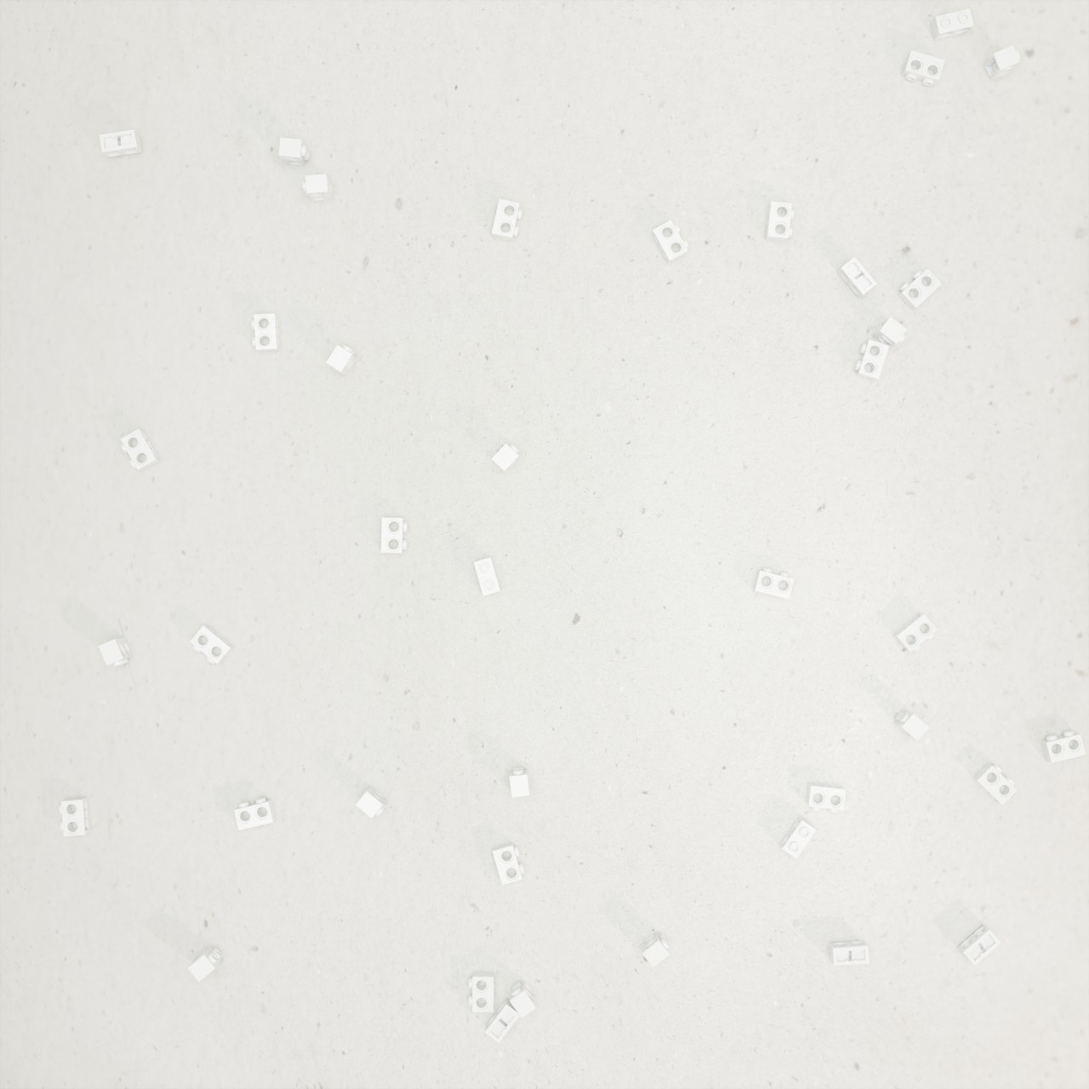lego: (898, 268, 942, 311), (957, 924, 1001, 966), (973, 763, 1017, 805), (190, 624, 234, 664), (893, 613, 938, 652), (837, 256, 877, 298), (120, 429, 160, 471), (651, 220, 689, 264), (779, 816, 817, 859), (485, 998, 521, 1043), (901, 50, 945, 86), (854, 339, 890, 381), (1041, 730, 1086, 763), (930, 8, 974, 41), (234, 797, 276, 831), (492, 842, 525, 885), (187, 945, 223, 982), (983, 45, 1020, 81), (753, 568, 794, 600), (492, 199, 523, 241), (99, 129, 142, 158), (59, 797, 90, 837), (806, 783, 846, 813), (765, 201, 794, 242), (251, 313, 280, 352), (872, 316, 907, 348), (894, 710, 930, 741), (640, 931, 670, 968), (829, 940, 870, 966), (355, 786, 387, 819), (474, 557, 501, 596), (98, 637, 133, 667), (510, 980, 537, 1018), (469, 972, 494, 1012), (326, 344, 357, 376), (381, 517, 408, 553), (491, 443, 520, 473), (279, 138, 310, 166), (303, 174, 333, 201), (509, 767, 530, 798)
